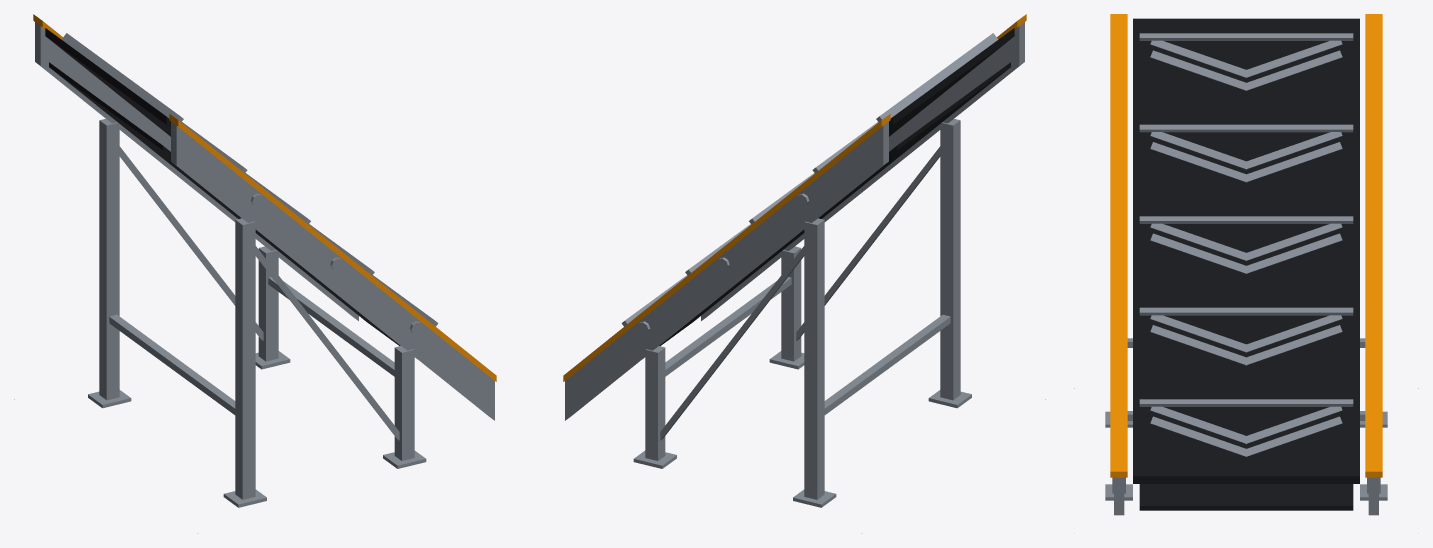
Rendered from convoyeur_rampe_descente_t2.glb.
3 renders of one model, left to right at view 1: azimuth 30°, elevation 25°; view 2: azimuth 150°, elevation 25°; view 3: azimuth 270°, elevation 25°, orthographic. The views are drawn at different scales.
Parts seen in each view (by area): view 1: pieces_acier.048, longeron_-1.024, longeron_1.024, rive_-1.024, bande_acier.042, bande_retour.024, bande_porteuse.024; view 2: pieces_acier.048, longeron_1.024, longeron_-1.024, rive_1.024, bande_acier.042, bande_retour.024, bande_porteuse.024; view 3: bande_porteuse.024, bande_acier.042, rive_1.024, rive_-1.024, bande_retour.024, pieces_acier.048, longeron_1.024, longeron_-1.024.
Boxes of the visible parts, bbox=[...] form: pieces_acier.048: bbox=[88, 119, 426, 507]; longeron_-1.024: bbox=[171, 121, 494, 420]; longeron_1.024: bbox=[35, 22, 358, 320]; rive_-1.024: bbox=[169, 114, 496, 381]; bande_acier.042: bbox=[61, 33, 438, 326]; bande_retour.024: bbox=[49, 62, 416, 358]; bande_porteuse.024: bbox=[45, 28, 170, 136]; pieces_acier.048: bbox=[633, 119, 971, 507]; longeron_1.024: bbox=[565, 121, 888, 420]; longeron_-1.024: bbox=[701, 22, 1024, 320]; rive_1.024: bbox=[563, 114, 890, 381]; bande_acier.042: bbox=[621, 33, 998, 326]; bande_retour.024: bbox=[643, 62, 1010, 358]; bande_porteuse.024: bbox=[889, 28, 1014, 136]; bande_porteuse.024: bbox=[1133, 18, 1359, 483]; bande_acier.042: bbox=[1139, 33, 1353, 456]; rive_1.024: bbox=[1365, 14, 1382, 477]; rive_-1.024: bbox=[1110, 14, 1127, 477]; bande_retour.024: bbox=[1139, 484, 1353, 510]; pieces_acier.048: bbox=[1105, 338, 1387, 500]; longeron_1.024: bbox=[1368, 477, 1378, 515]; longeron_-1.024: bbox=[1114, 477, 1124, 515].
Bounding box in the file's own units: 1 × 1.2 × 1.
